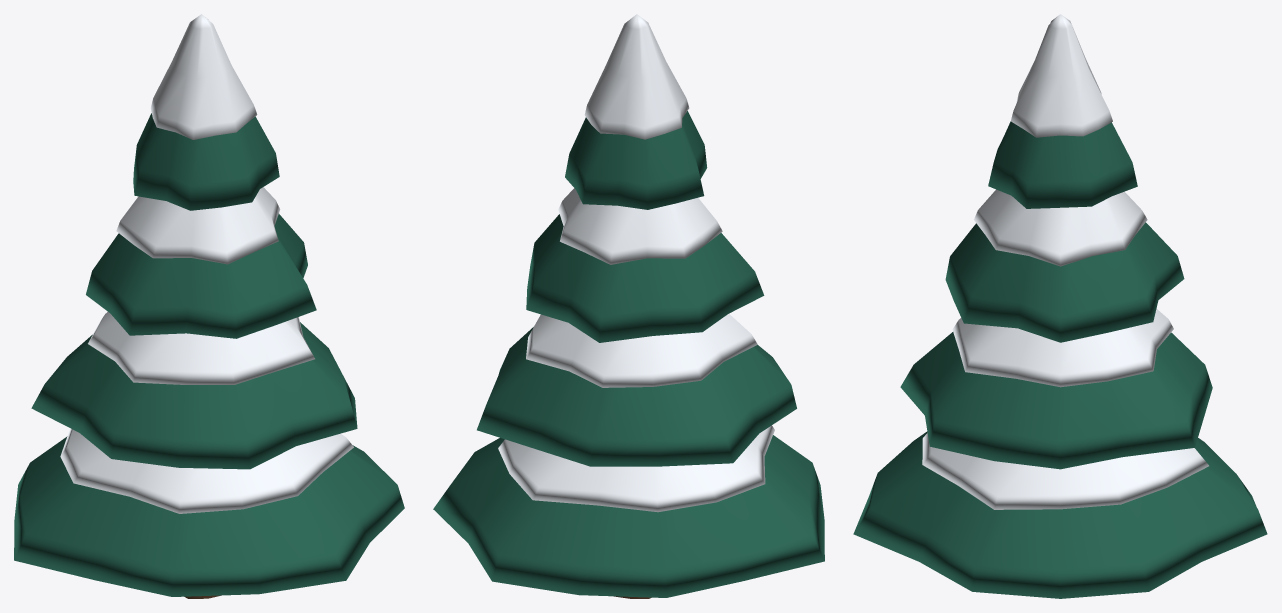
Rendered from SpleefPine.obj.
The picture shows the model from 3 angles, left to right: view 1: azimuth 30°, elevation 25°; view 2: azimuth 150°, elevation 25°; view 3: azimuth 270°, elevation 25°; orthographic projection.
Parts seen in each view (by area): view 1: Needles, Snow; view 2: Needles, Snow; view 3: Needles, Snow.
Part boxes in pixels (box(x1,y1,x2,y2)): Needles: box(14, 113, 404, 596); Snow: box(60, 14, 353, 513); Needles: box(433, 111, 824, 597); Snow: box(498, 14, 774, 512); Needles: box(853, 121, 1267, 598); Snow: box(922, 14, 1208, 509).
Bounding box in the file's own units: 10.31 × 15.61 × 10.25.
